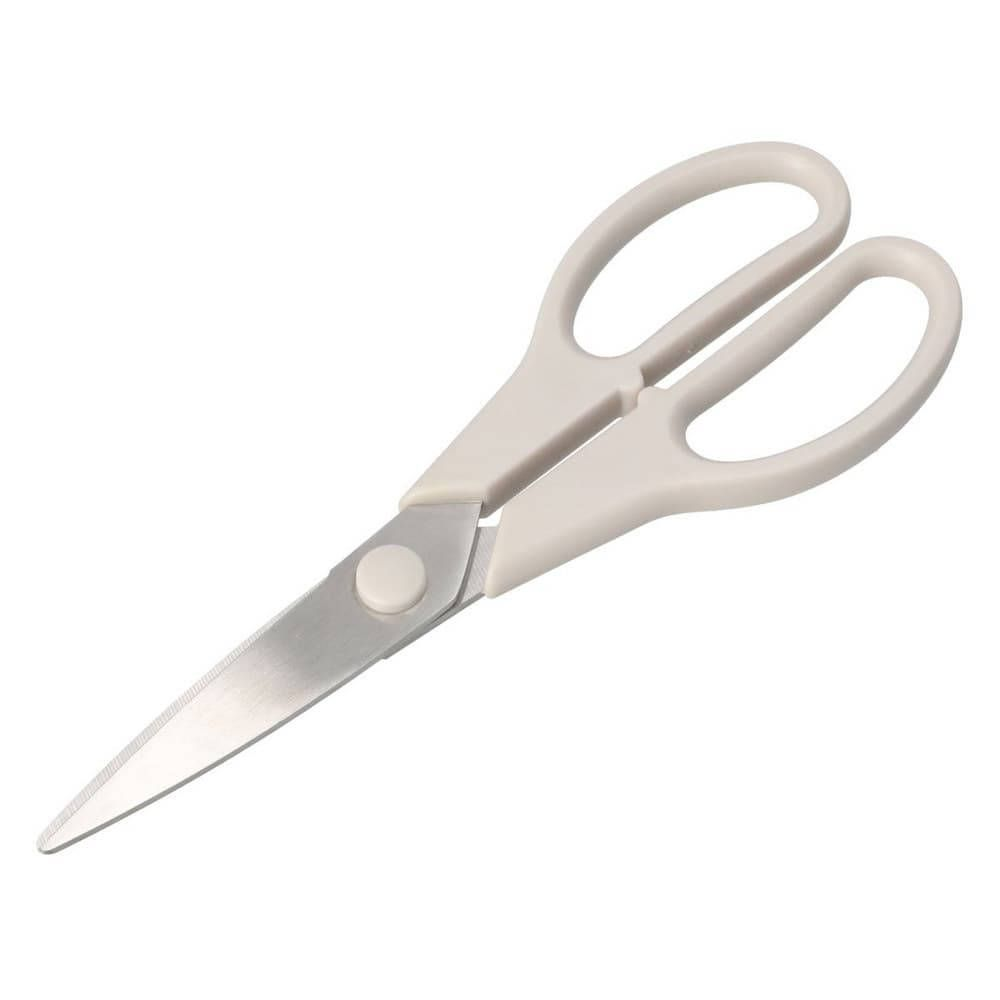scissors: (27, 133, 969, 873)
